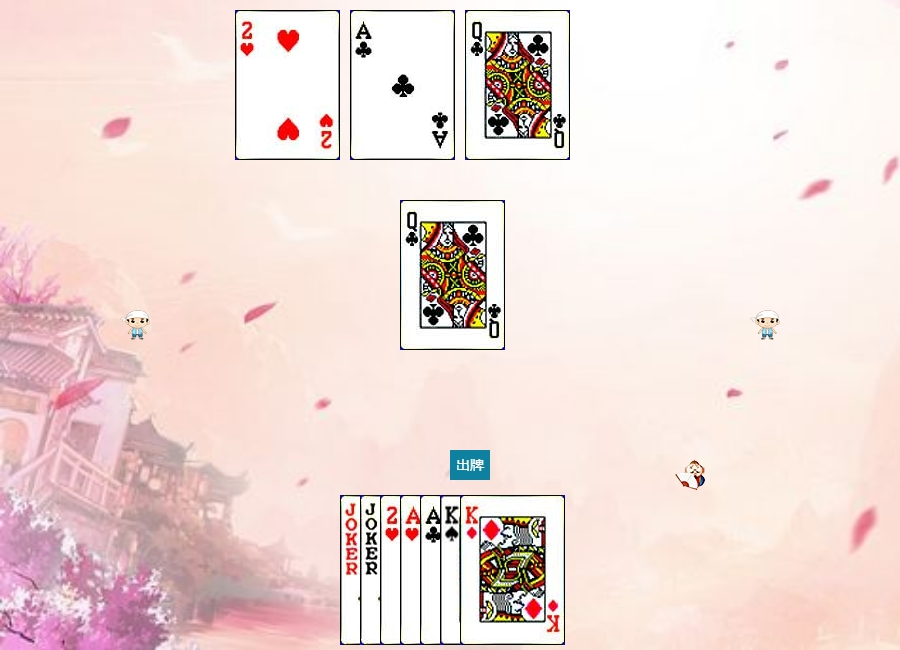12~2: (465, 10, 570, 160), (400, 200, 505, 350)
13~1: (460, 495, 565, 645)
13~4: (440, 495, 545, 645)
14~2: (350, 10, 455, 160), (420, 495, 525, 645)
14~3: (400, 495, 505, 645)
15~3: (235, 10, 340, 160), (380, 495, 485, 645)
17~3: (360, 495, 465, 645)
18~4: (340, 495, 445, 645)
